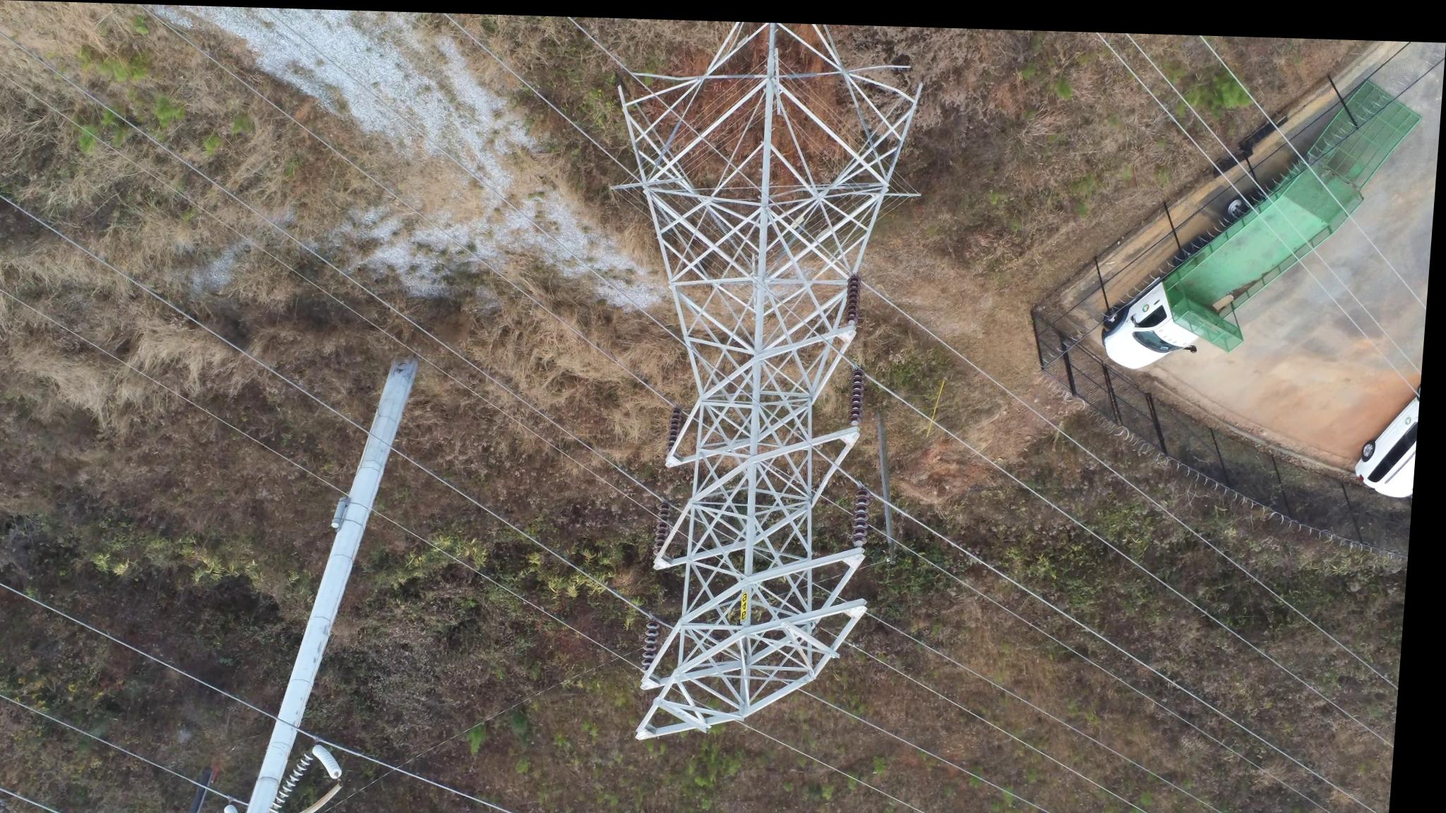tower: (571, 18, 961, 749)
